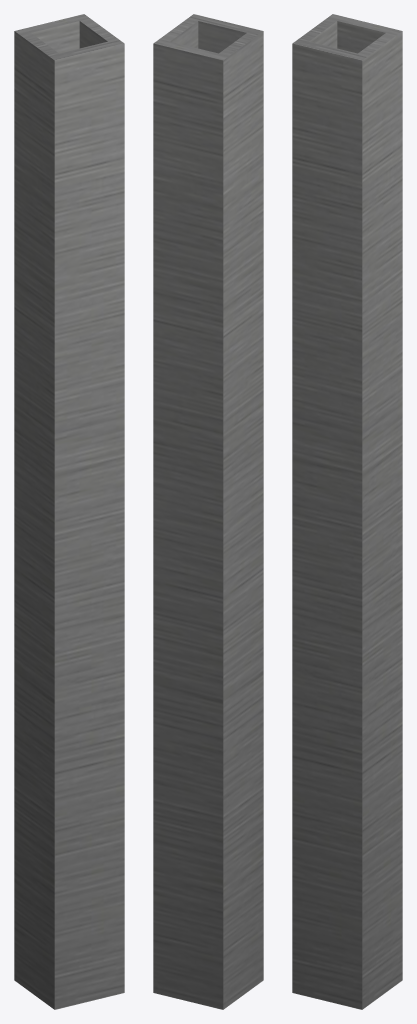
3 views of the same model, side by side, from view 1: azimuth 30°, elevation 25°; view 2: azimuth 150°, elevation 25°; view 3: azimuth 330°, elevation 25° (orthographic).
Visible parts, largest first — view 1: SketchUp (×2); view 2: SketchUp (×2); view 3: SketchUp (×2).
Boxes of the visible parts, box(x1,y1,x2,y2) form: SketchUp (×2): box(14, 14, 124, 1009); SketchUp (×2): box(153, 14, 263, 1009); SketchUp (×2): box(292, 14, 402, 1009).
Bounding box in the file's own units: 39.37 × 39.37 × 512.
1 material, 1 textured.
